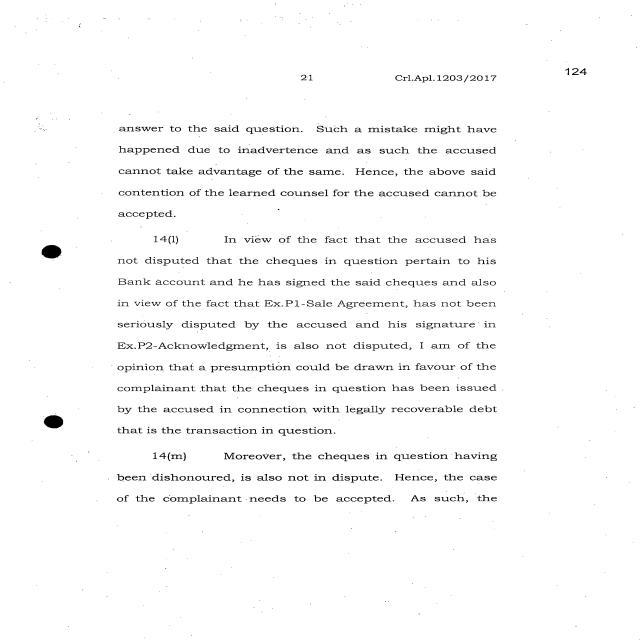page-number: (498, 30, 640, 124)
